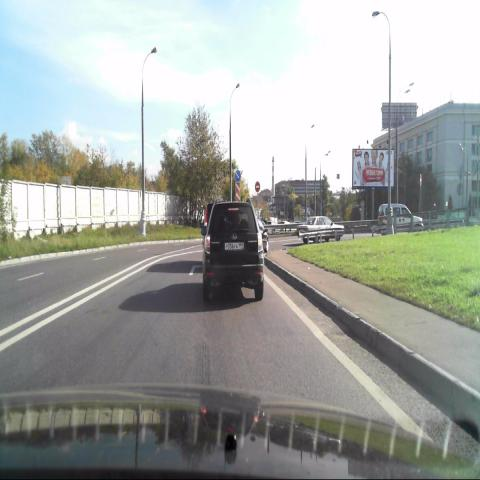3_1: (254, 180, 261, 193)
4_2_1: (234, 169, 242, 182)
